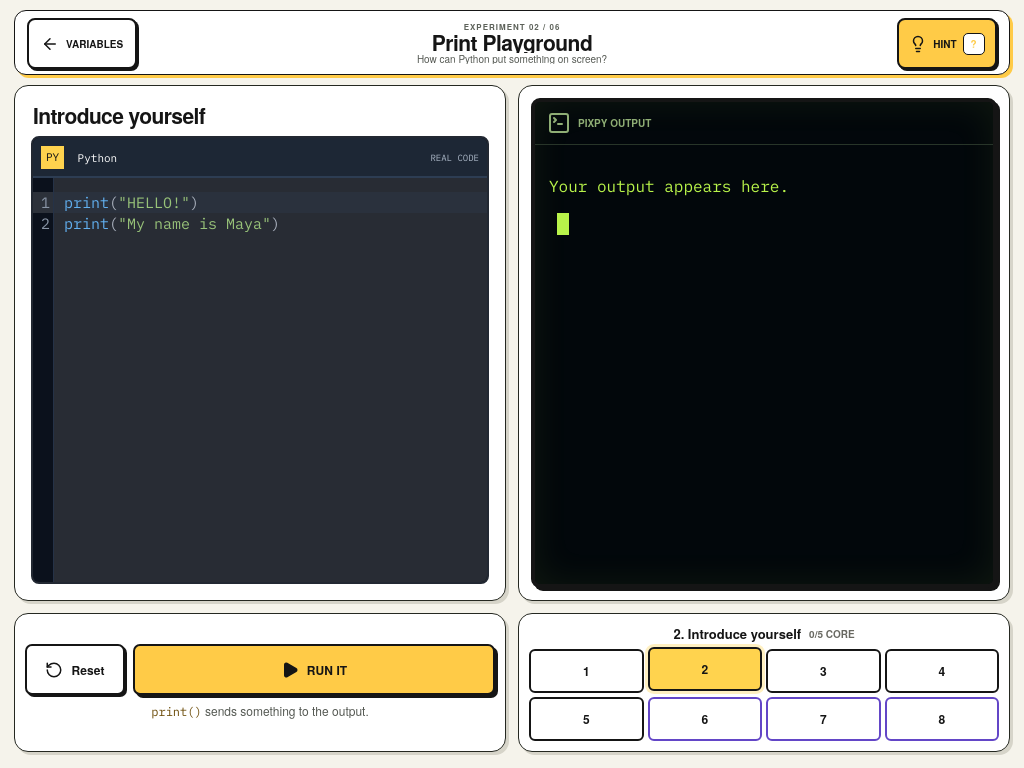
Test: Print Playground screen › animates the introduce-yourself output when a second line is printed
Click the button "RUN IT" at (314, 670), box [133,644,495,695]
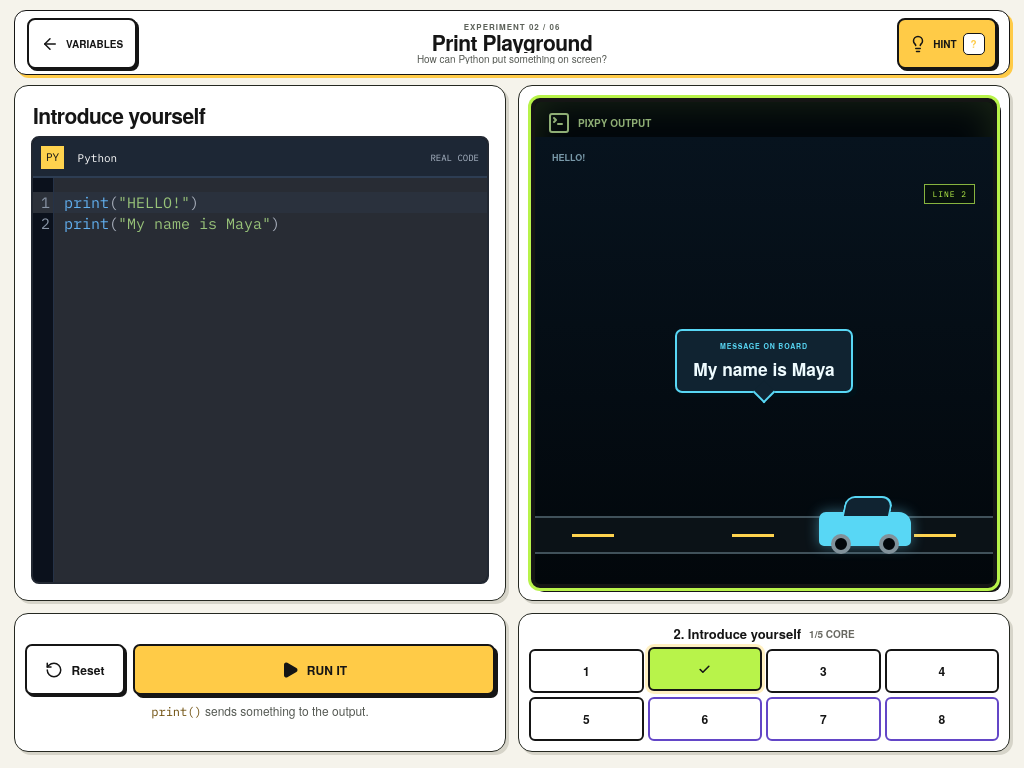
Check: the element named "Personal message delivery" is shown, box [535,137,993,584]
Check: the text "My name is Maya" is shown, box [693,356,835,380]
